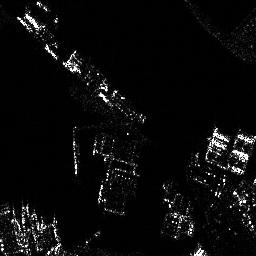ship: (70, 124, 82, 177)
